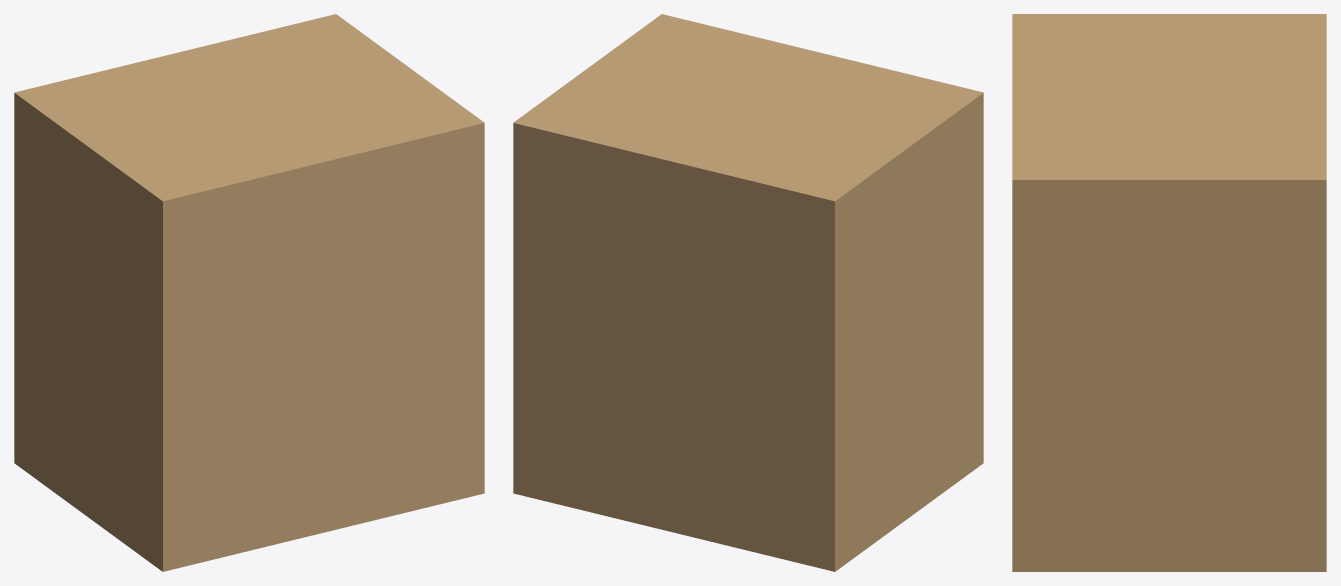
3 renders of one model, left to right at view 1: azimuth 30°, elevation 25°; view 2: azimuth 150°, elevation 25°; view 3: azimuth 270°, elevation 25°, orthographic. The views are drawn at different scales.
Visible parts, largest first — view 1: nightstand; view 2: nightstand; view 3: nightstand.
Part boxes in pixels (bbox=[...]): nightstand: bbox=[14, 14, 484, 571]; nightstand: bbox=[513, 14, 983, 571]; nightstand: bbox=[1012, 14, 1326, 571].
Bounding box in the file's own units: 0.5 × 0.55 × 0.4.
